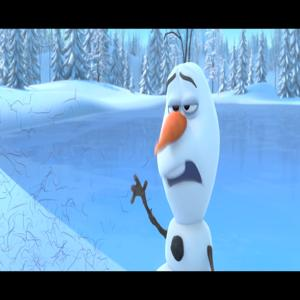olaf: (147, 47, 232, 267)
